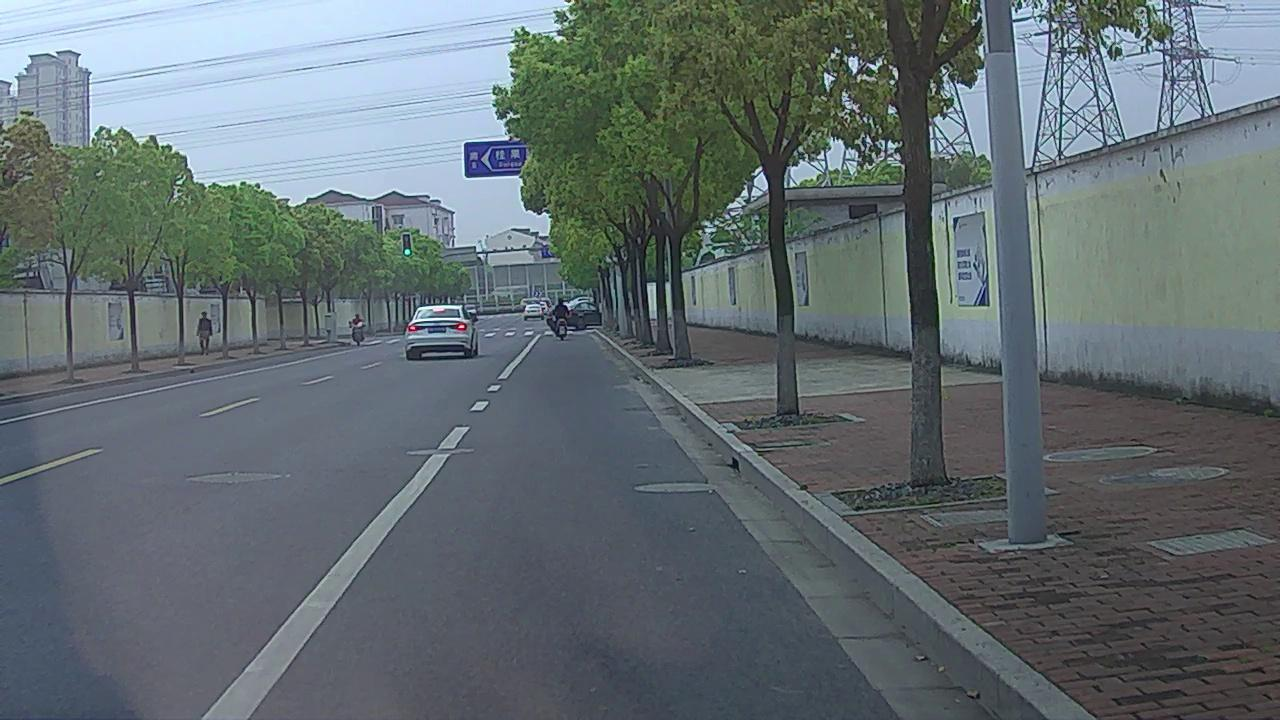traffic_light: (403, 233, 411, 256)
